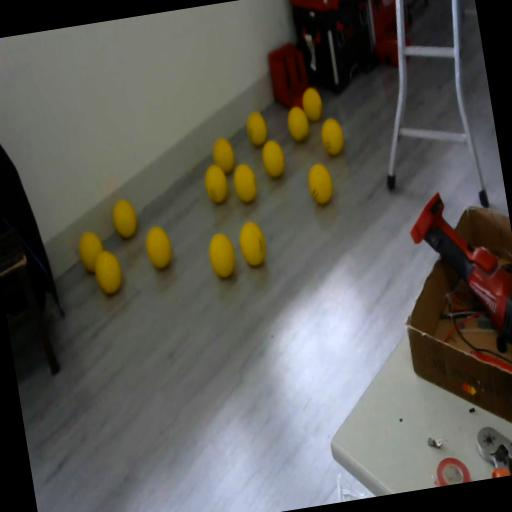FUEL: (90, 246, 125, 296), (204, 229, 238, 280), (236, 218, 268, 268), (142, 222, 174, 271), (304, 161, 334, 206), (258, 136, 288, 180), (201, 161, 230, 205), (110, 197, 139, 240), (230, 161, 258, 204), (210, 134, 238, 176), (318, 114, 346, 156), (284, 103, 311, 143), (299, 84, 325, 122), (244, 110, 269, 148)
